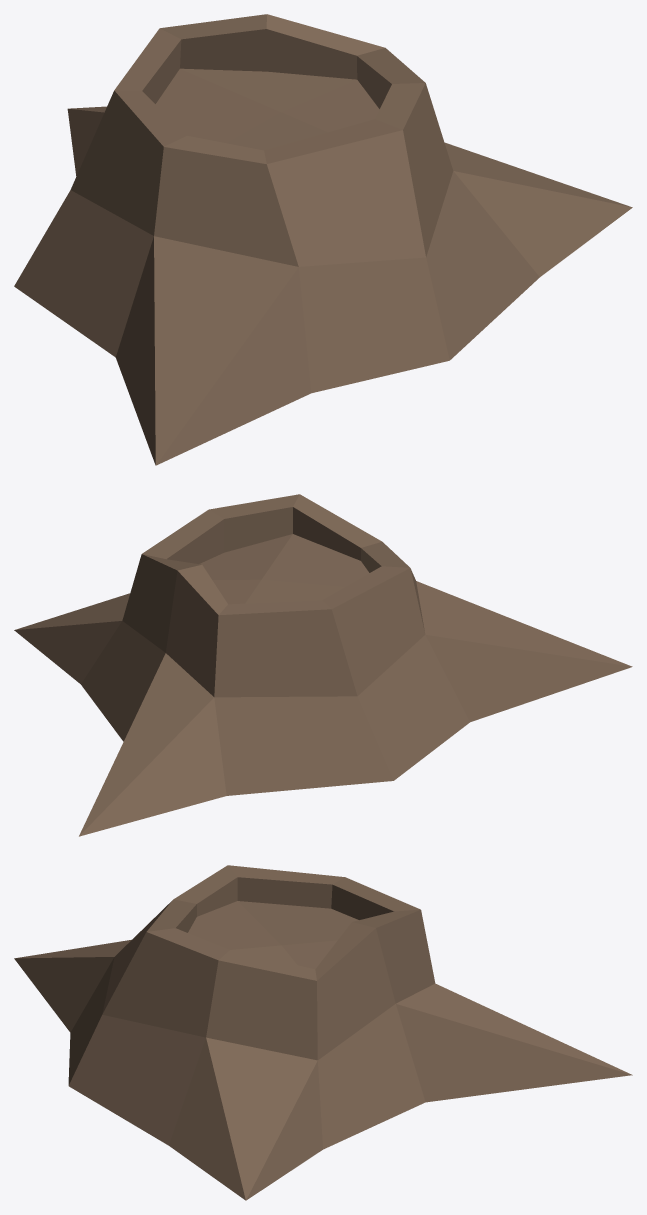
The model's file is Strump_01.fbx.
3 views of the same model, one above another, from view 1: azimuth 30°, elevation 25°; view 2: azimuth 150°, elevation 25°; view 3: azimuth 270°, elevation 25° (orthographic). The views are drawn at different scales.
Parts seen in each view (by area): view 1: Stump_01; view 2: Stump_01; view 3: Stump_01.
Part boxes in pixels (bbox=[...]): Stump_01: bbox=[14, 14, 632, 465]; Stump_01: bbox=[14, 494, 632, 836]; Stump_01: bbox=[14, 865, 632, 1200].
Bounding box in the file's own units: 106 × 33.11 × 115.
